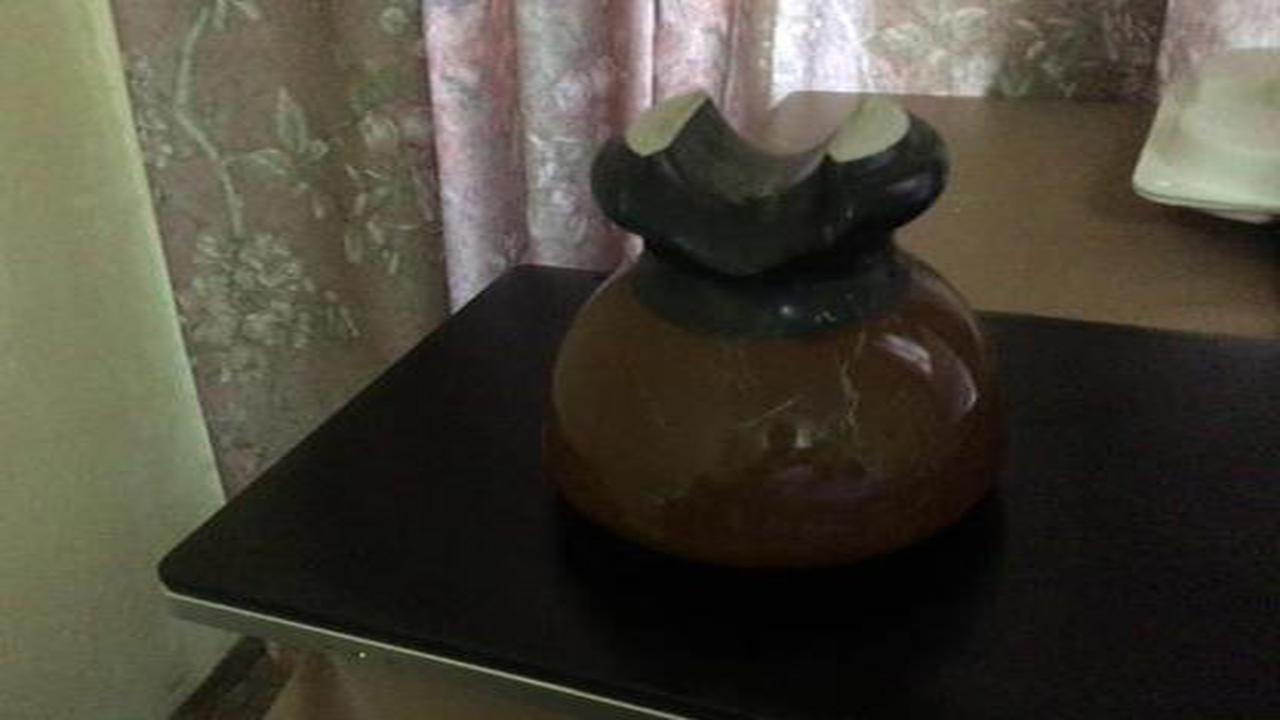insulator_pin: (539, 75, 1025, 589)
